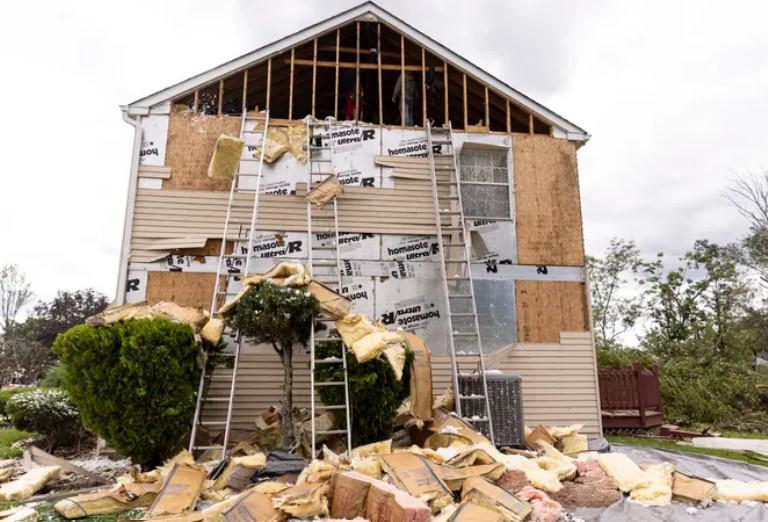major: (91, 1, 627, 474)
